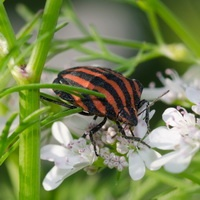insect: (53, 66, 147, 138)
